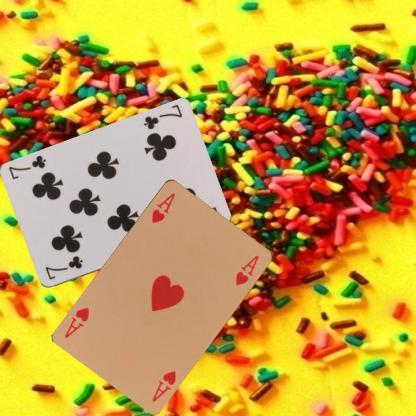7c: (141, 102, 183, 131), (43, 253, 84, 281)
Ah: (148, 190, 177, 224), (149, 368, 177, 402)
